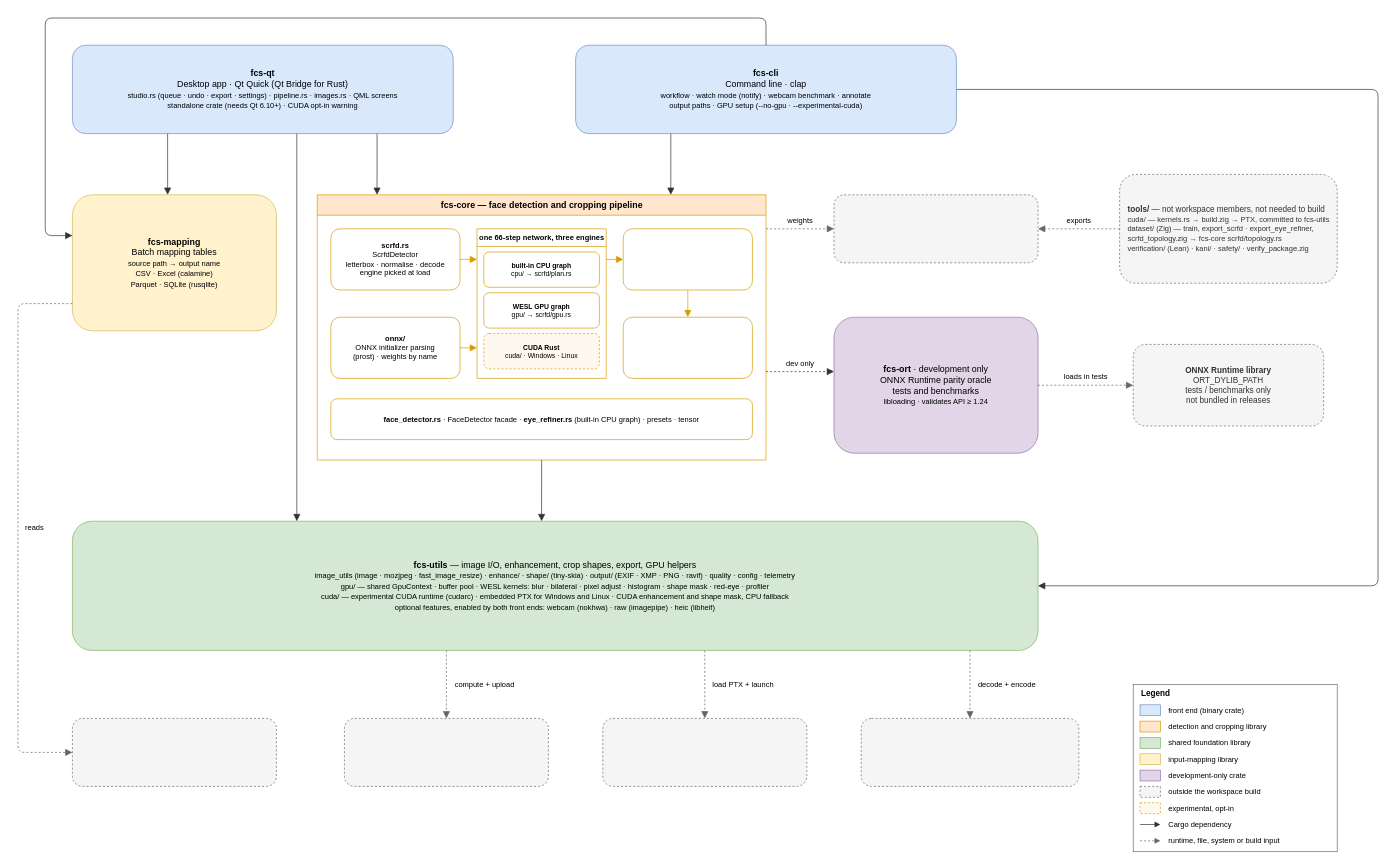
This 1397x864 diagram has some shape labels left out. The centre of each missing label's shape, as x and y in pixels:
"cropper.rs · face_cropper.rs crop region · padding eye-line alignment" goes at (x=687, y=347).
"GPU driver via wgpu DX12 · Vulkan · Metal" goes at (x=446, y=752).
"Mapping files .csv · .xlsx · .parquet · .db" goes at (x=174, y=752).
"models/*.onnx SCRFD-80k 500M, 640 · eye refiner" goes at (x=935, y=228).
"Native codecs libjpeg-turbo (mozjpeg) · dav1d · libheif" goes at (x=970, y=752).
"NVIDIA driver CUDA driver API · no toolkit Windows · Linux" goes at (x=704, y=752).
"postprocess.rs · nms.rs detection types non-max suppression" goes at (x=687, y=259).
